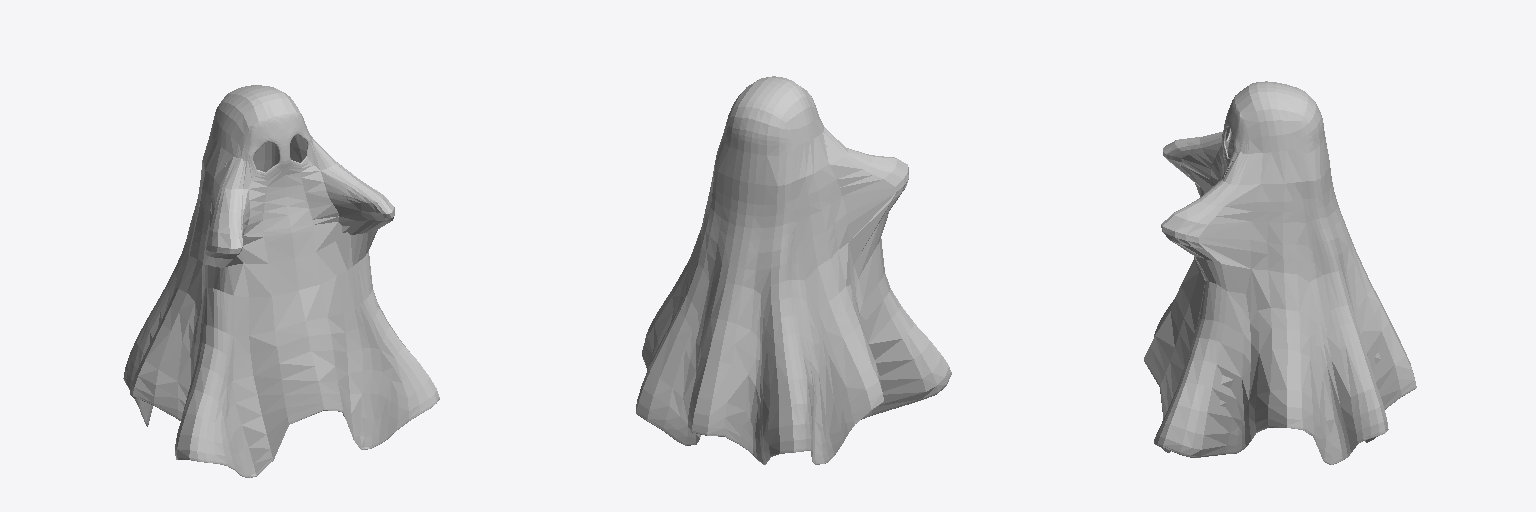
3 views of the same model, side by side, from view 1: azimuth 30°, elevation 25°; view 2: azimuth 150°, elevation 25°; view 3: azimuth 270°, elevation 25° (orthographic).
Visible parts, largest first — view 1: youlinguu2:Group3 walk1; view 2: youlinguu2:Group3 walk1; view 3: youlinguu2:Group3 walk1.
Part boxes in pixels (x1,y1,x2,y2): youlinguu2:Group3 walk1: (123,85,439,477); youlinguu2:Group3 walk1: (636,76,951,464); youlinguu2:Group3 walk1: (1144,81,1416,464).
Size of the model in its own units: 31.65 by 39.82 by 29.13.